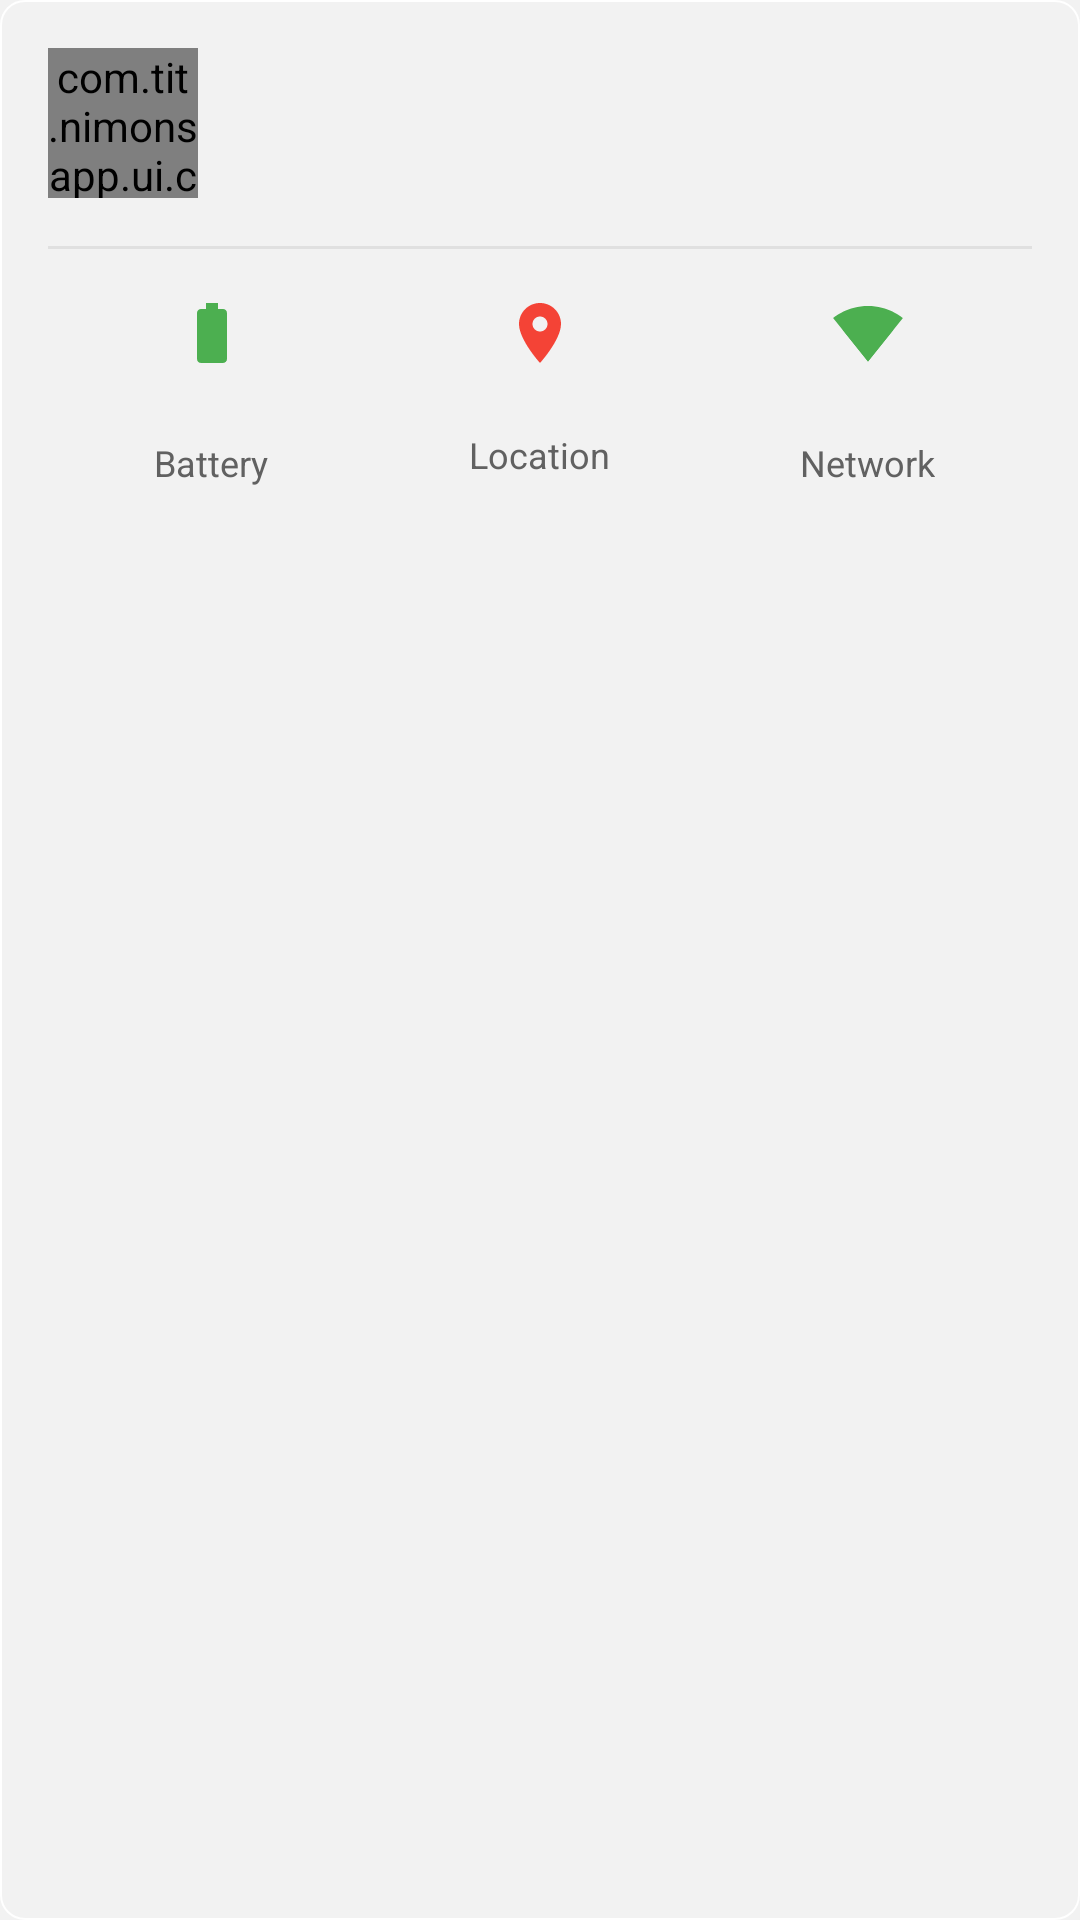

Locate icon controls on the screen. Image size 1080 x 1920, boxes as (x1, y1, x2, y2).
wifi: (833, 306, 903, 362)
